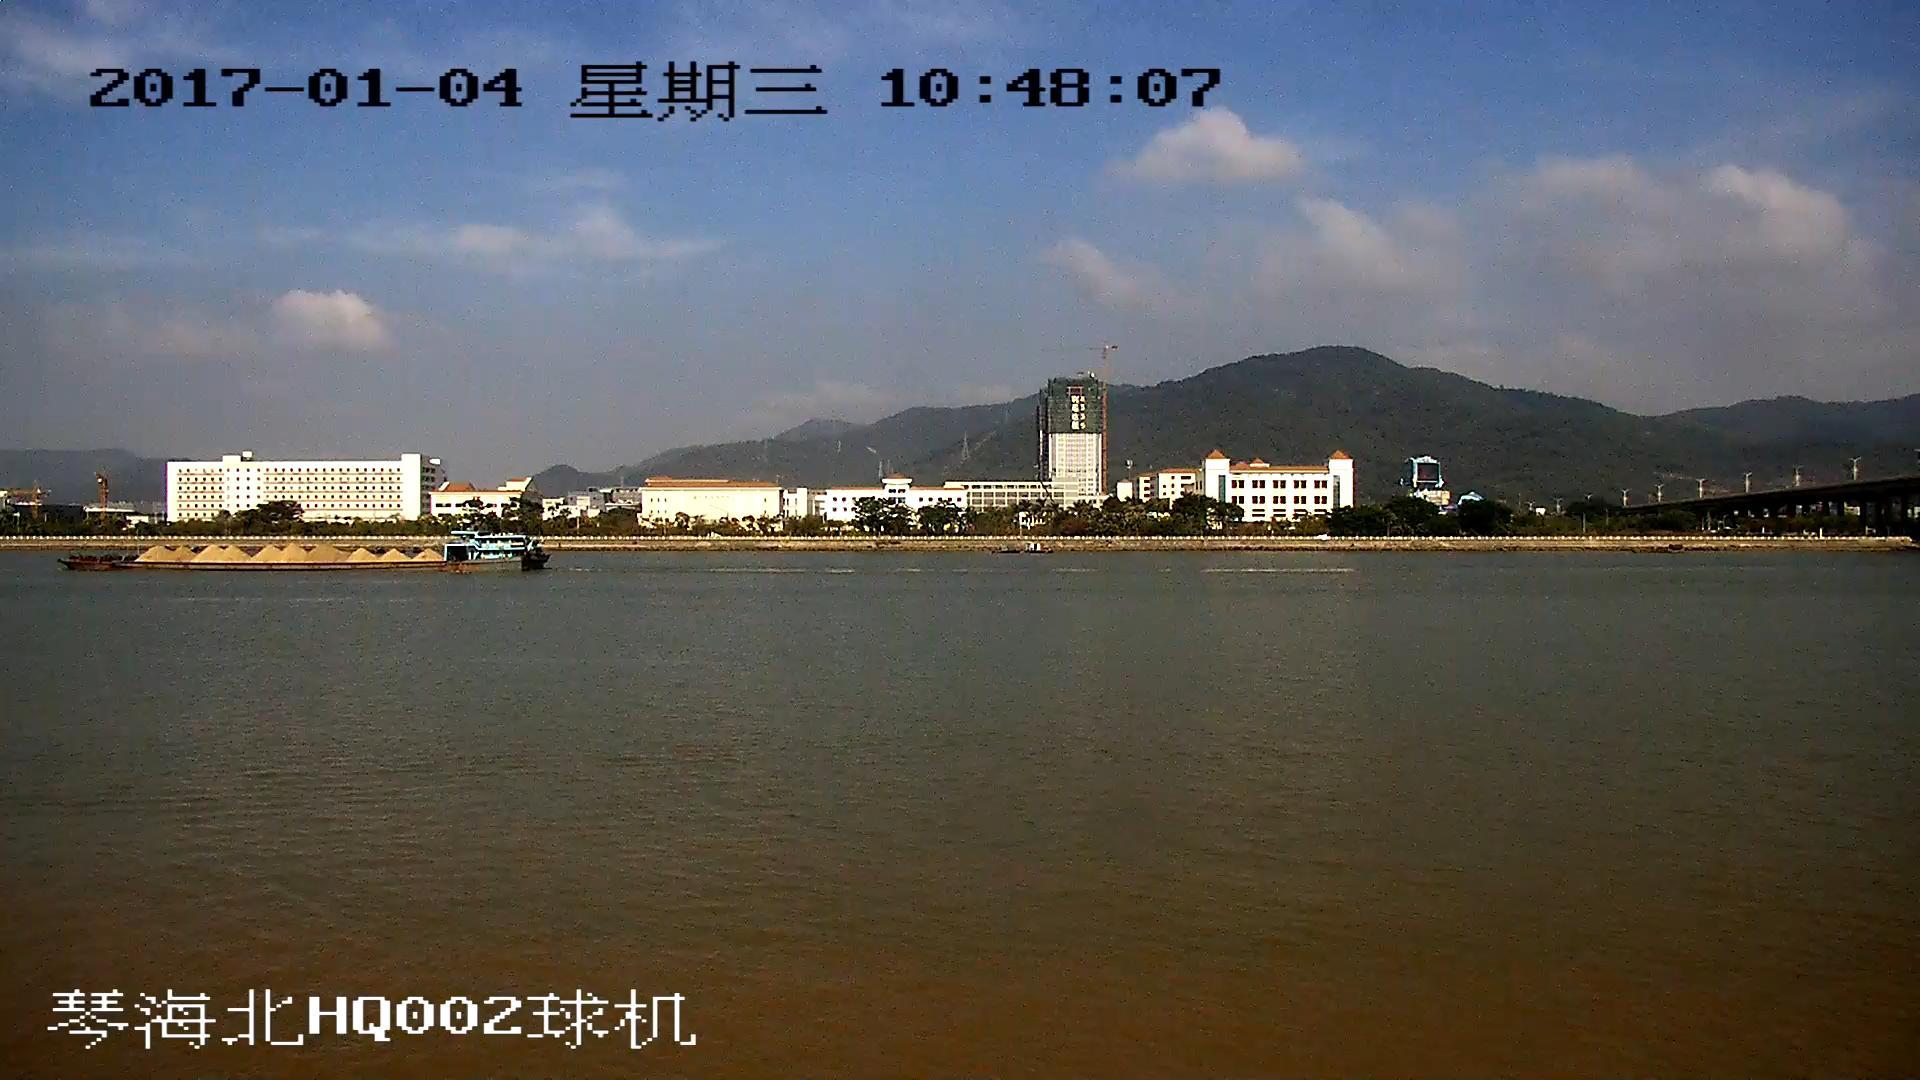Ship: (67, 527, 547, 578)
